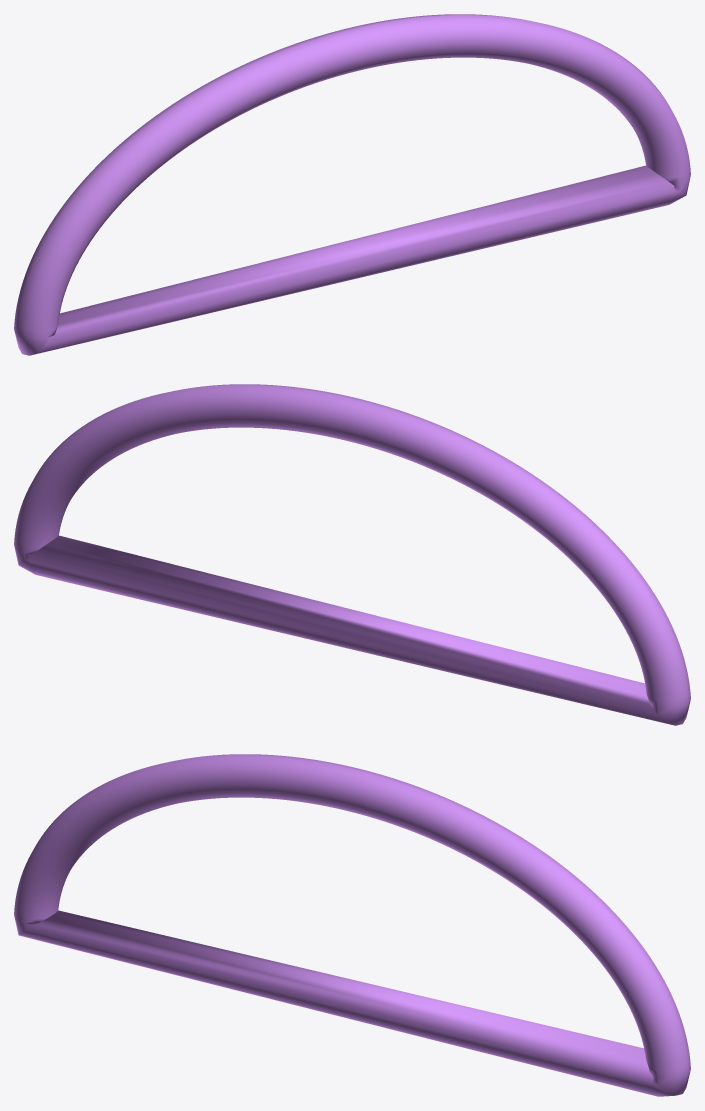
File: canopy-frame-b1jhCg-f.glb
3 renders of one model, top to bottom at view 1: azimuth 30°, elevation 25°; view 2: azimuth 150°, elevation 25°; view 3: azimuth 330°, elevation 25°, orthographic.
Parts seen in each view (by area): view 1: R3D_canopy-frame_Body_0; view 2: R3D_canopy-frame_Body_0; view 3: R3D_canopy-frame_Body_0.
Part boxes in pixels (box(x1,y1,x2,y2)): R3D_canopy-frame_Body_0: box(14, 14, 690, 355); R3D_canopy-frame_Body_0: box(14, 384, 690, 725); R3D_canopy-frame_Body_0: box(14, 754, 690, 1096).
Bounding box in the file's own units: 3.18 × 1.13 × 0.18.
